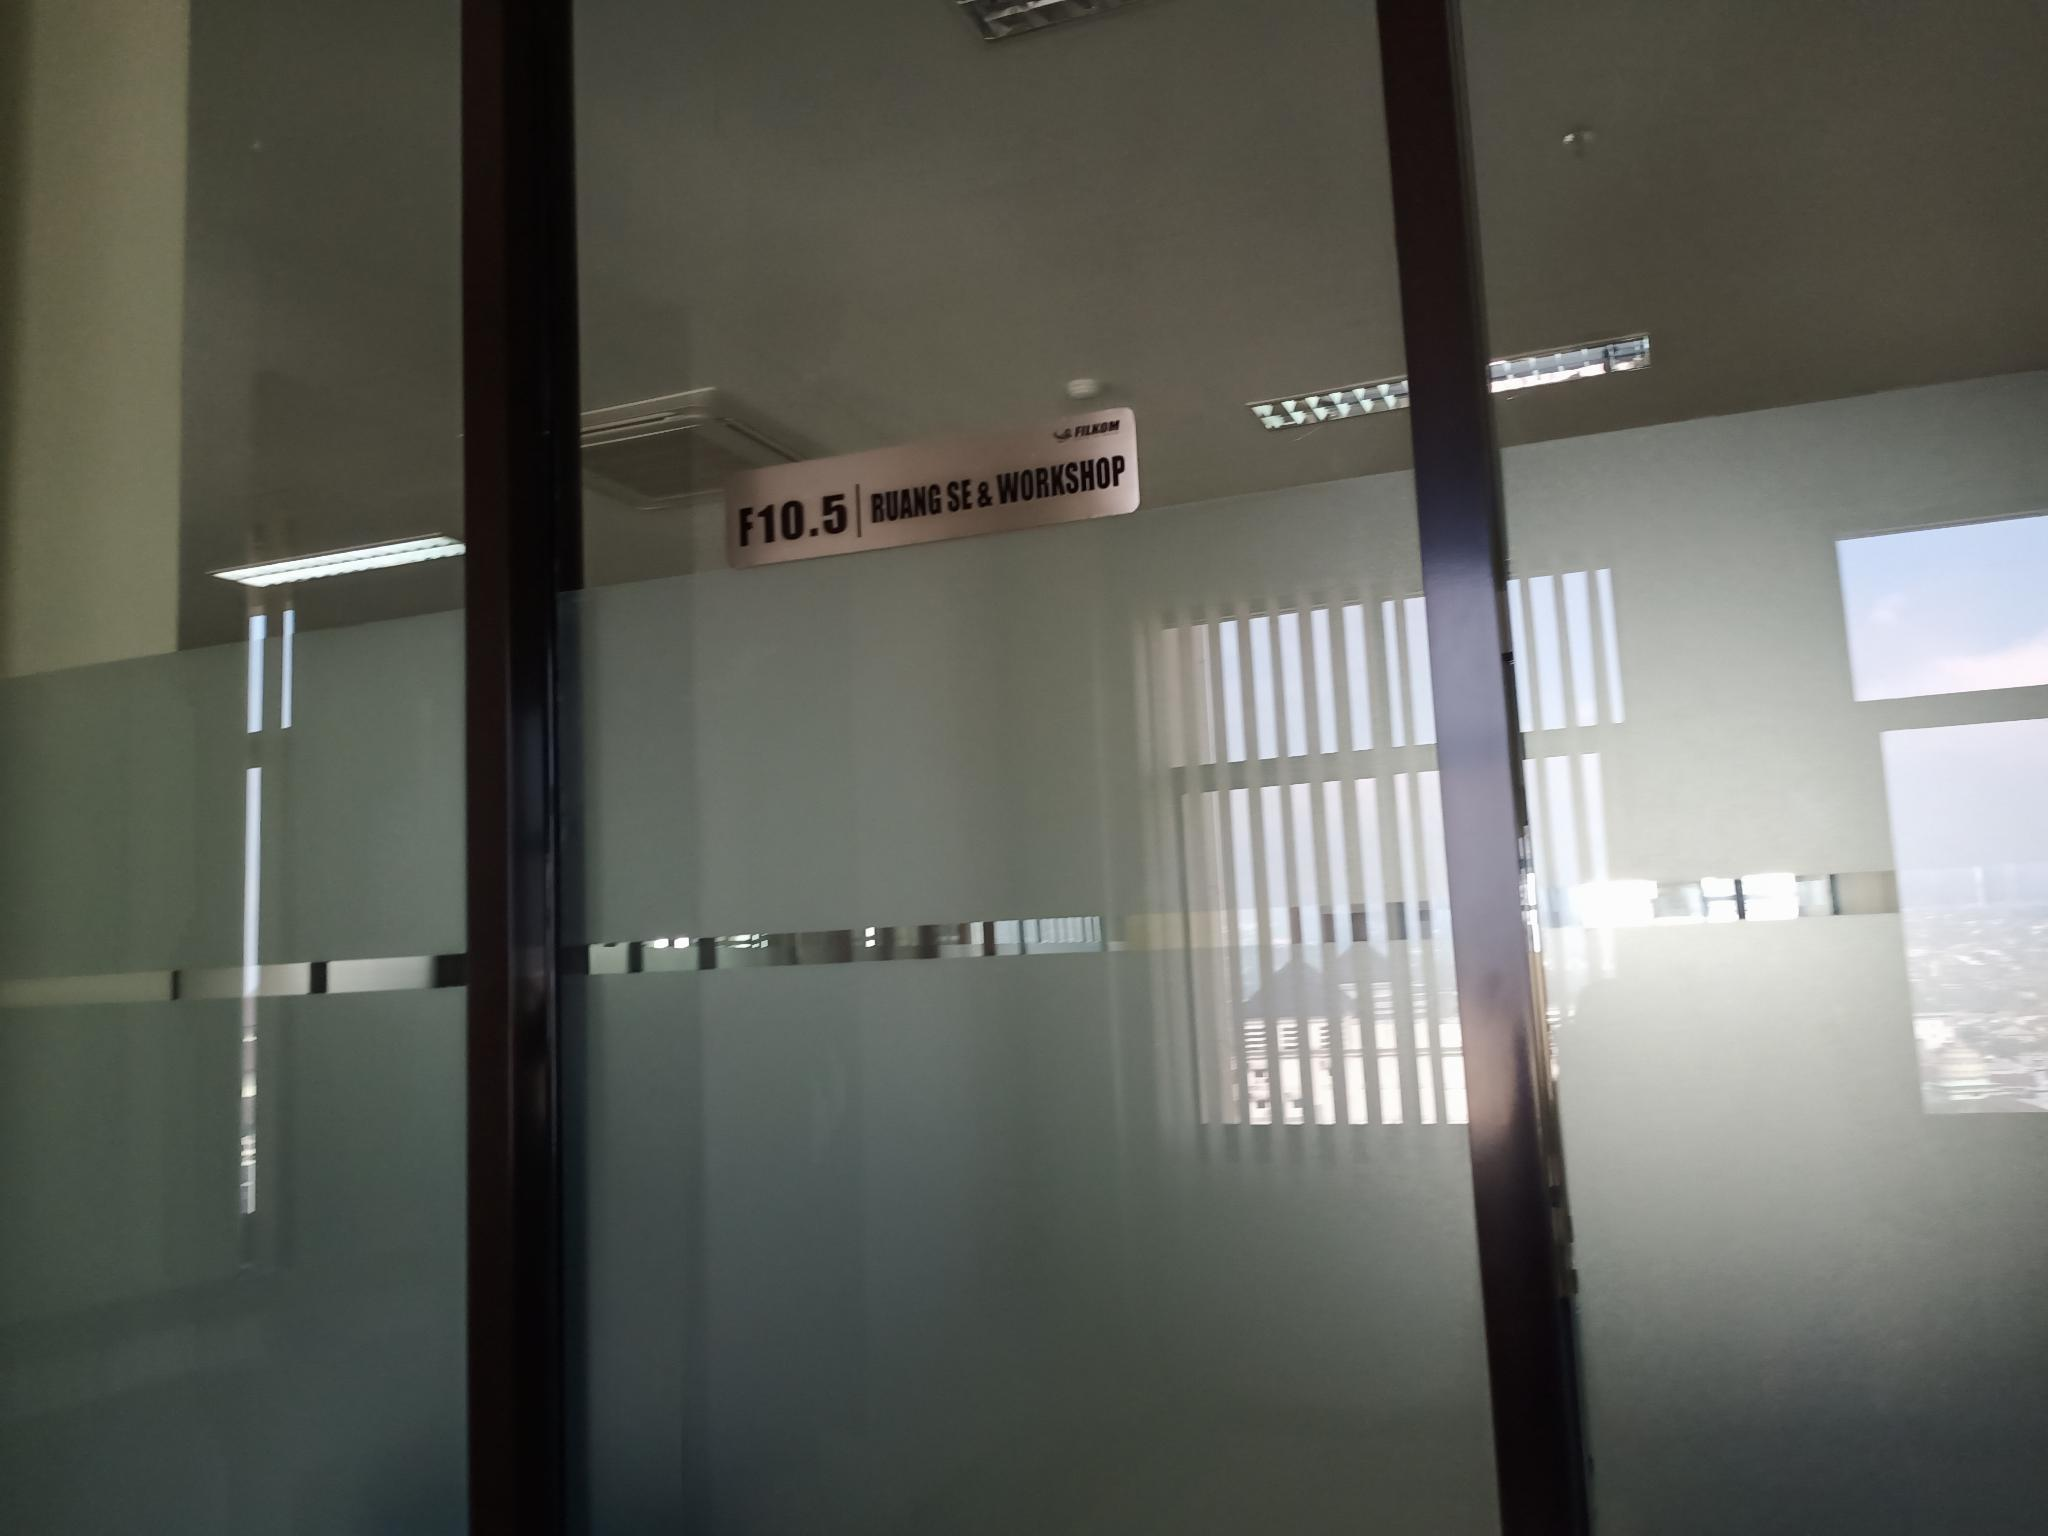plate: (724, 405, 1143, 573)
